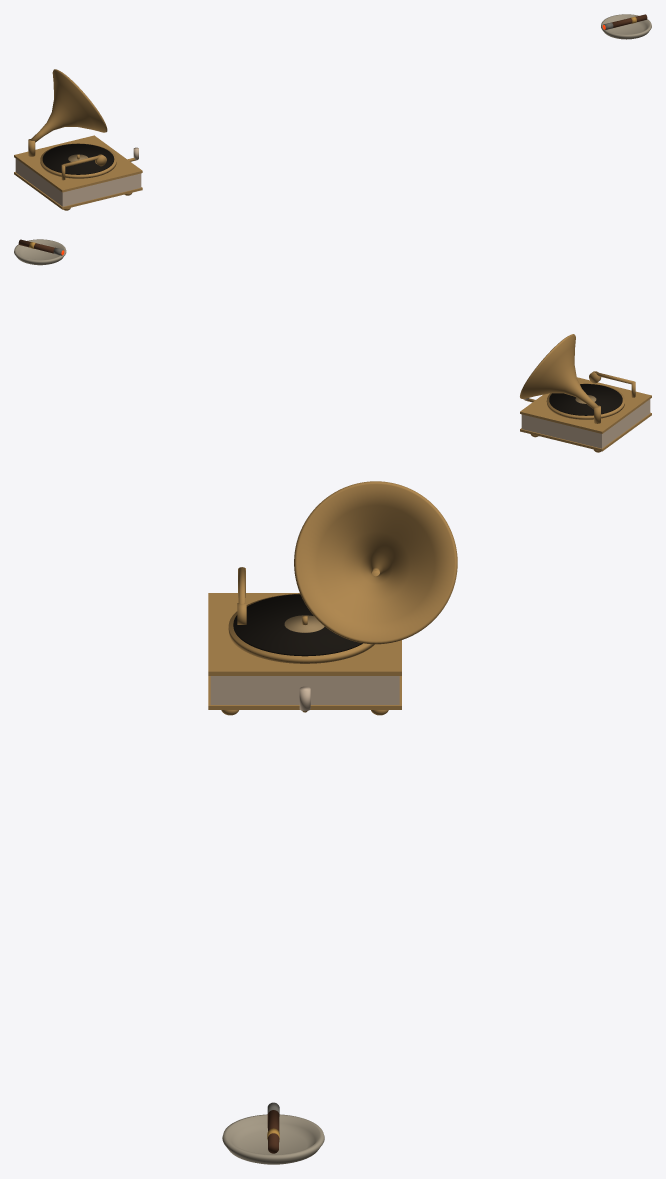
File: railcar-interactive-props.glb
3 views of the same model, one above another, from view 1: azimuth 30°, elevation 25°; view 2: azimuth 150°, elevation 25°; view 3: azimuth 270°, elevation 25° (orthographic). The views are drawn at different scales.
Visible parts, largest first — view 1: gramophone horn, gramophone gilt moulding.001, gramophone cabinet, gramophone record, cigar ashtray, gramophone platter, gramophone gilt moulding; view 2: gramophone horn, gramophone cabinet, gramophone gilt moulding.001, gramophone record, cigar ashtray, gramophone gilt moulding, gramophone platter; view 3: gramophone horn, gramophone gilt moulding.001, gramophone cabinet, gramophone record, cigar ashtray, gramophone platter, gramophone gilt moulding.
Part boxes in pixels (<box>): gramophone horn: <box>30,69,107,142</box>; gramophone gilt moulding.001: <box>14,135,142,192</box>; gramophone cabinet: <box>15,159,141,206</box>; gramophone record: <box>42,143,114,174</box>; cigar ashtray: <box>601,14,651,39</box>; gramophone platter: <box>40,143,116,178</box>; gramophone gilt moulding: <box>14,172,142,209</box>; gramophone horn: <box>520,334,598,409</box>; gramophone cabinet: <box>521,399,650,448</box>; gramophone gilt moulding.001: <box>520,377,651,433</box>; gramophone record: <box>549,384,622,415</box>; cigar ashtray: <box>14,239,66,265</box>; gramophone gilt moulding: <box>520,412,651,451</box>; gramophone platter: <box>546,383,624,419</box>; gramophone horn: <box>294,481,457,644</box>; gramophone gilt moulding.001: <box>208,593,401,675</box>; gramophone cabinet: <box>210,676,399,704</box>; gramophone record: <box>233,594,362,656</box>; cigar ashtray: <box>222,1114,324,1164</box>; gramophone platter: <box>228,593,374,663</box>; gramophone gilt moulding: <box>208,676,401,709</box>.
Bounding box in the file's own units: 17.68 × 2.88 × 3.17.
